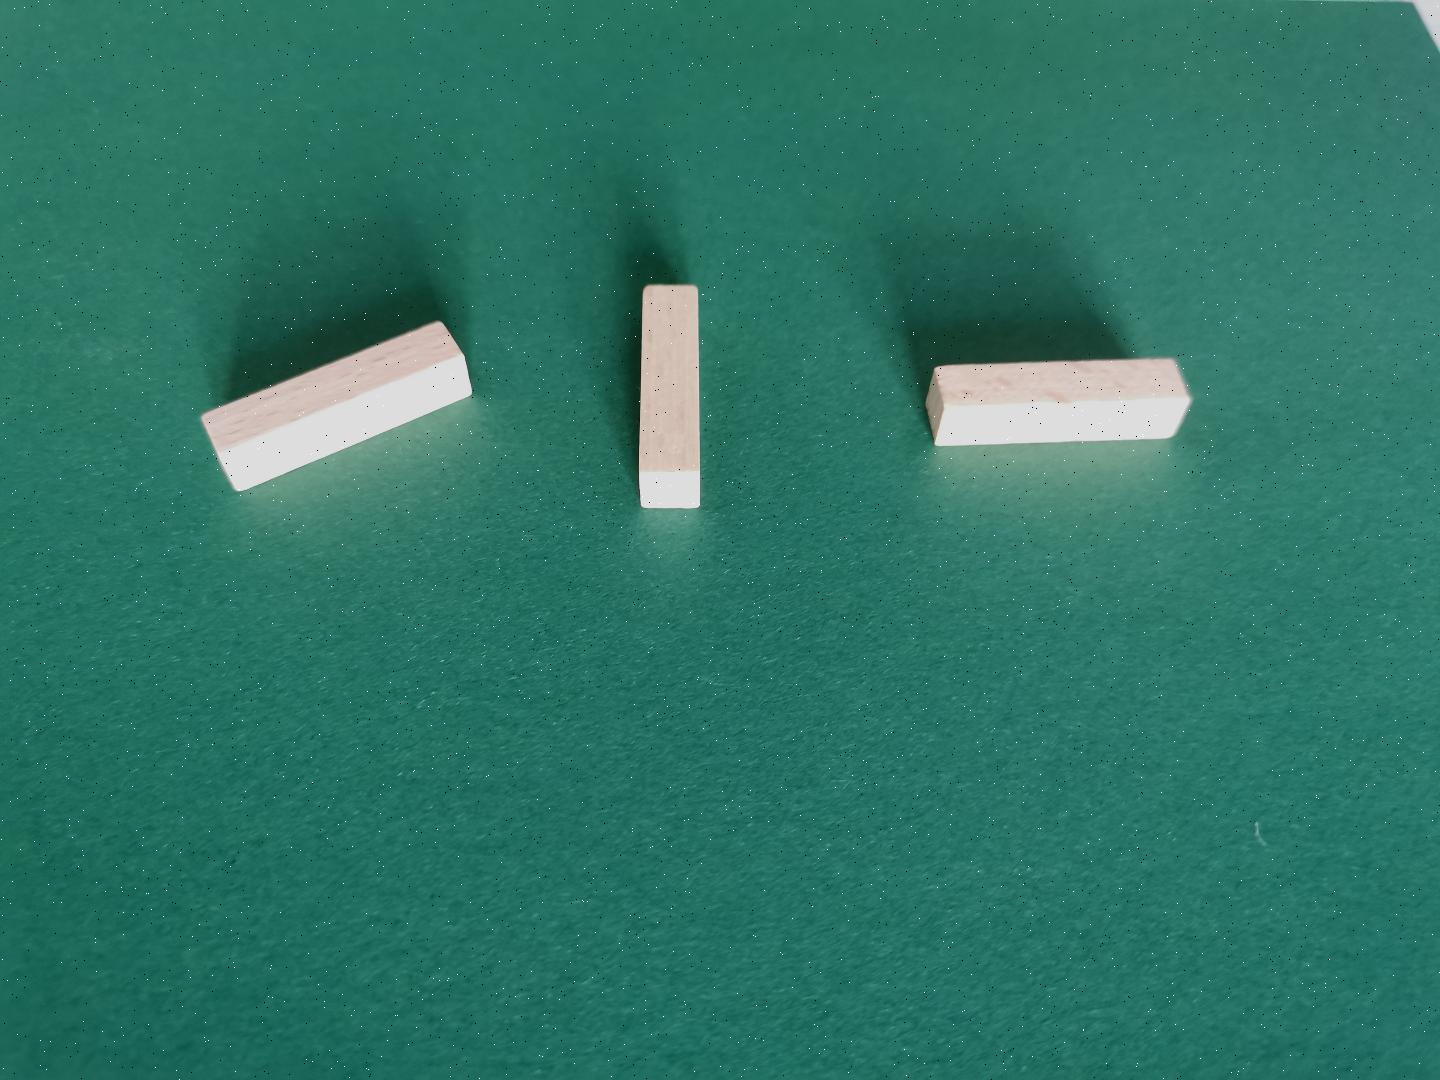jenga: (203, 321, 473, 492), (925, 357, 1189, 445), (638, 284, 701, 509)
